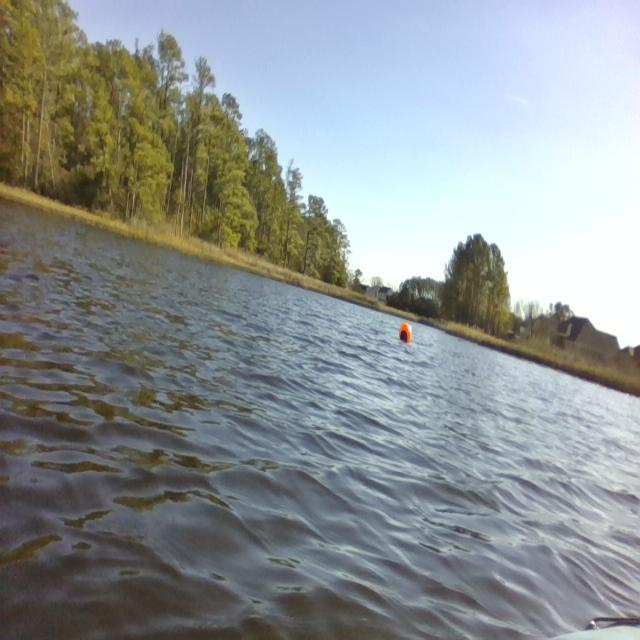Buoy: (397, 321, 415, 350)
